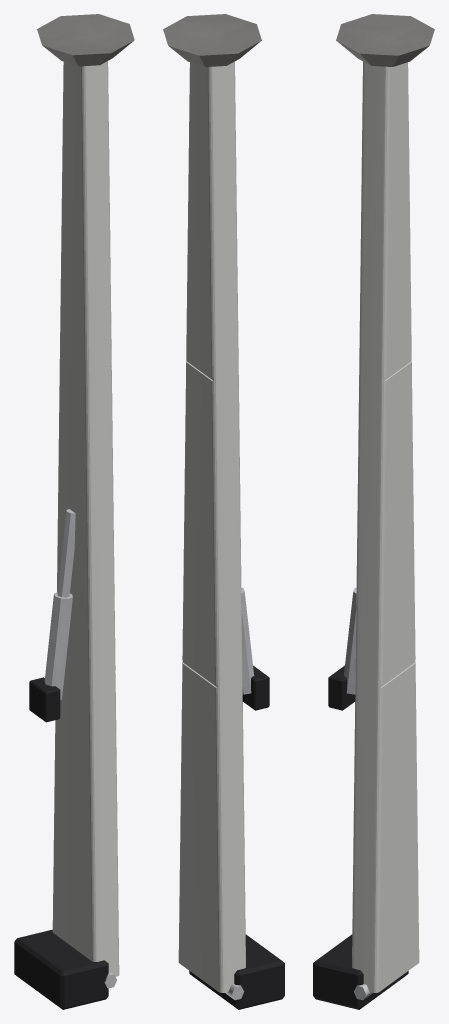
Rendered from ax_gear_05_booster_leg_xl.glb.
3 renders of one model, left to right at view 1: azimuth 30°, elevation 25°; view 2: azimuth 210°, elevation 25°; view 3: azimuth 330°, elevation 25°, orthographic.
Visible parts, largest first — view 1: leg_beam, leg_clevis, leg_footpad, leg_pusher_outer, leg_pusher_inner; view 2: leg_beam, leg_footpad, leg_clevis, leg_pusher_outer; view 3: leg_beam, leg_footpad, leg_clevis, leg_pusher_outer.
Boxes of the visible parts, <box> form: leg_beam: <box>52,61,119,976</box>; leg_clevis: <box>14,677,108,1009</box>; leg_footpad: <box>37,14,134,66</box>; leg_pusher_outer: <box>44,592,72,700</box>; leg_pusher_inner: <box>57,509,75,597</box>; leg_beam: <box>178,61,245,992</box>; leg_footpad: <box>163,14,261,66</box>; leg_clevis: <box>189,665,284,1009</box>; leg_pusher_outer: <box>241,587,254,694</box>; leg_beam: <box>352,61,419,992</box>; leg_footpad: <box>336,14,434,66</box>; leg_clevis: <box>313,665,408,1009</box>; leg_pusher_outer: <box>343,587,356,694</box>.
Bounding box in the file's own units: 0.9046 × 8.85 × 0.857.
Materials: 4 (2 with a texture image).
